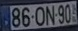0: (64, 3, 71, 23)
6: (21, 6, 30, 28)
8: (10, 6, 20, 28)
9: (57, 4, 65, 24)
N: (45, 4, 55, 26)
O: (34, 5, 45, 27)
